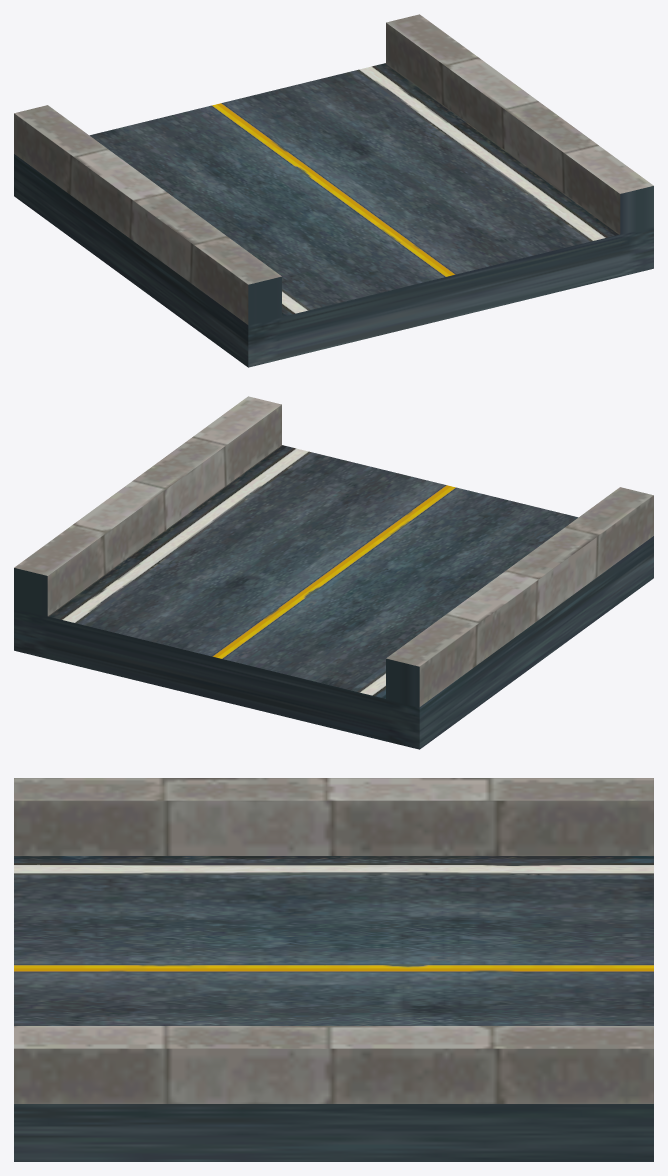
Rendered from 직선도로.obj.
3 views of the same model, one above another, from view 1: azimuth 30°, elevation 25°; view 2: azimuth 150°, elevation 25°; view 3: azimuth 270°, elevation 25° (orthographic). The views are drawn at different scales.
Parts seen in each view (by area): view 1: Cube; view 2: Cube; view 3: Cube.
Boxes of the visible parts, x1,y1,x2,y2 form: Cube: [14, 14, 653, 367]; Cube: [14, 396, 653, 749]; Cube: [14, 778, 653, 1161].
Size of the model in its own units: 2 by 0.3905 by 2.
